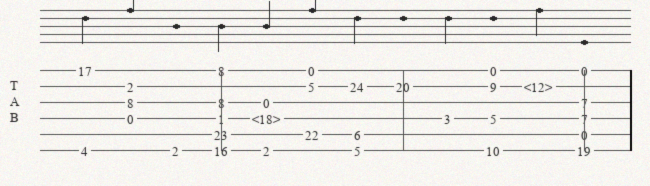0: (127, 112, 138, 125), (263, 96, 274, 109), (308, 64, 319, 77), (490, 64, 501, 77), (581, 128, 592, 141), (581, 64, 592, 77)
1: (218, 112, 229, 125)
10: (486, 144, 504, 157)
16: (214, 144, 232, 157)
17: (78, 64, 96, 77)
19: (577, 144, 595, 157)
2: (127, 80, 138, 93), (172, 144, 183, 157), (263, 144, 274, 157)
20: (396, 80, 414, 93)
22: (305, 128, 323, 141)
23: (214, 128, 232, 141)
24: (350, 80, 368, 93)
3: (444, 112, 455, 125)
4: (81, 144, 92, 157)
5: (308, 80, 319, 93), (354, 144, 365, 157), (490, 112, 501, 125)
6: (354, 128, 365, 141)
7: (581, 112, 592, 125), (581, 96, 592, 109)
8: (127, 96, 138, 109), (218, 96, 229, 109), (218, 64, 229, 77)
9: (490, 80, 501, 93)
harmonic: (252, 112, 285, 125), (524, 80, 557, 93)
